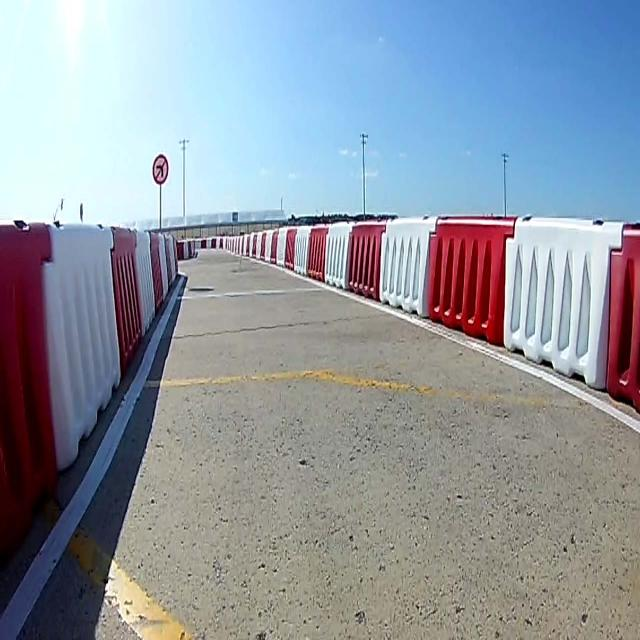soladonulmez: (153, 154, 167, 186)
